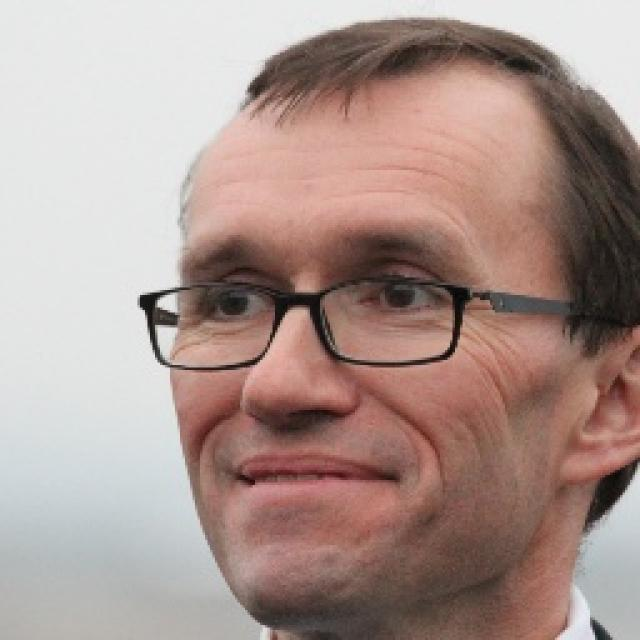earlobe: (569, 427, 615, 485)
eye: (361, 266, 445, 322), (203, 277, 275, 330)
nose: (247, 406, 350, 448)
wholeear: (555, 320, 640, 485)
